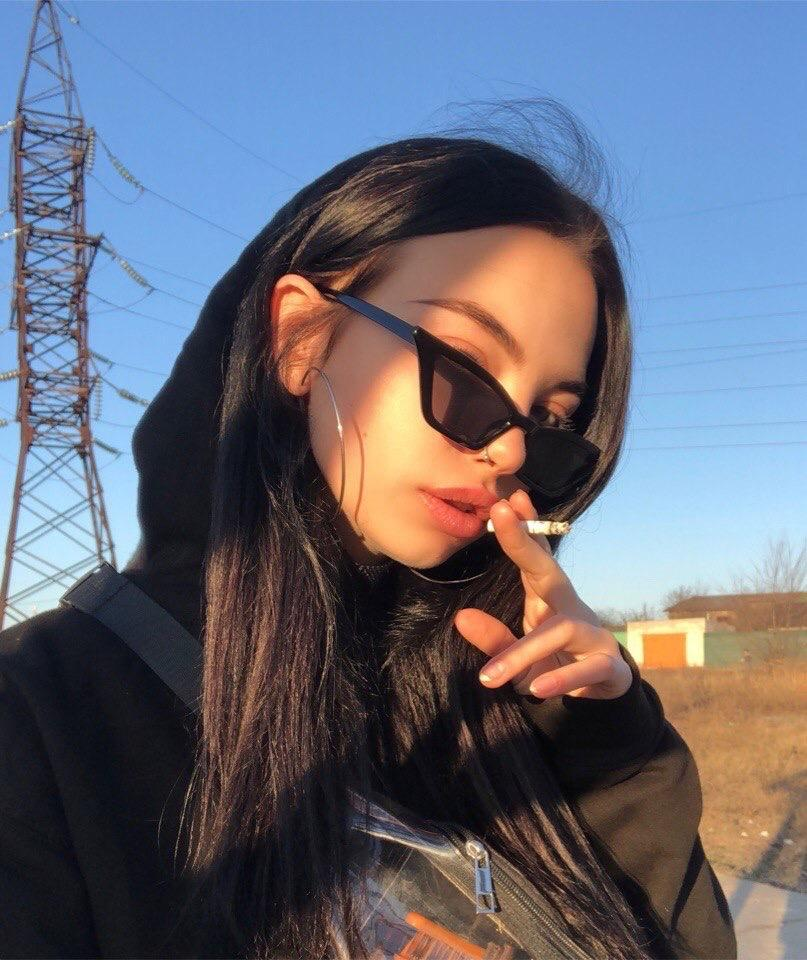cigarette: (488, 518, 574, 536)
